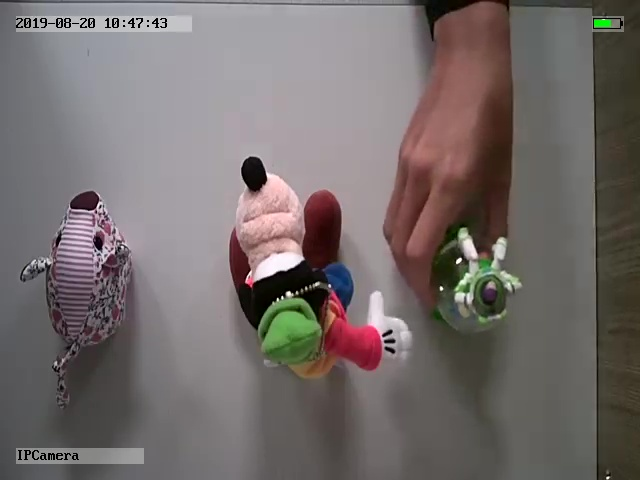buzz: (425, 223, 526, 339)
goofy: (221, 154, 416, 383)
pig: (20, 188, 135, 411)
